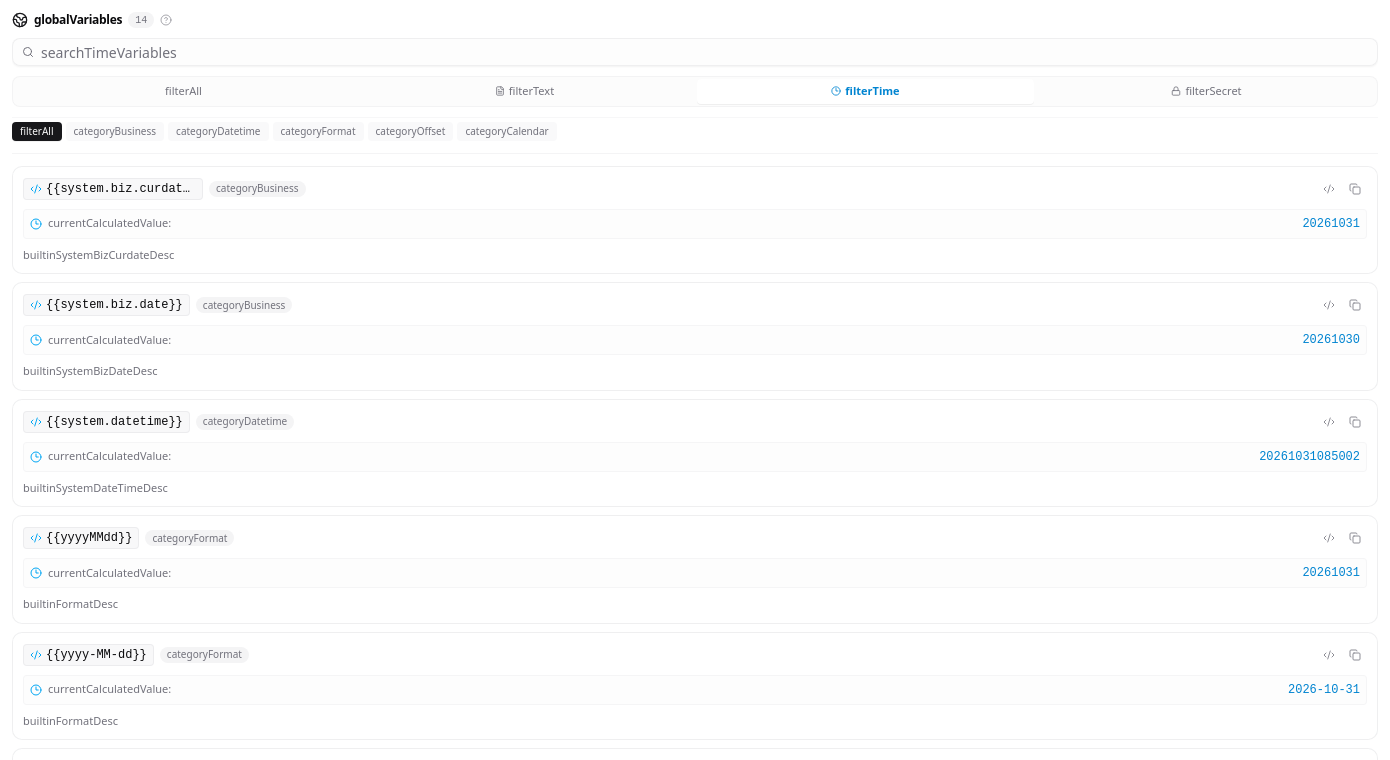
Test: GlobalVariablesSidebarPanel › filters built-in time variables by search query
Expected: the text "{{system.biz.curdate}}" is shown, [46,180,196,196]
In the field with placeholder "searchTimeVariables": (695,52) [12,38,1378,66], type "month_first_day"
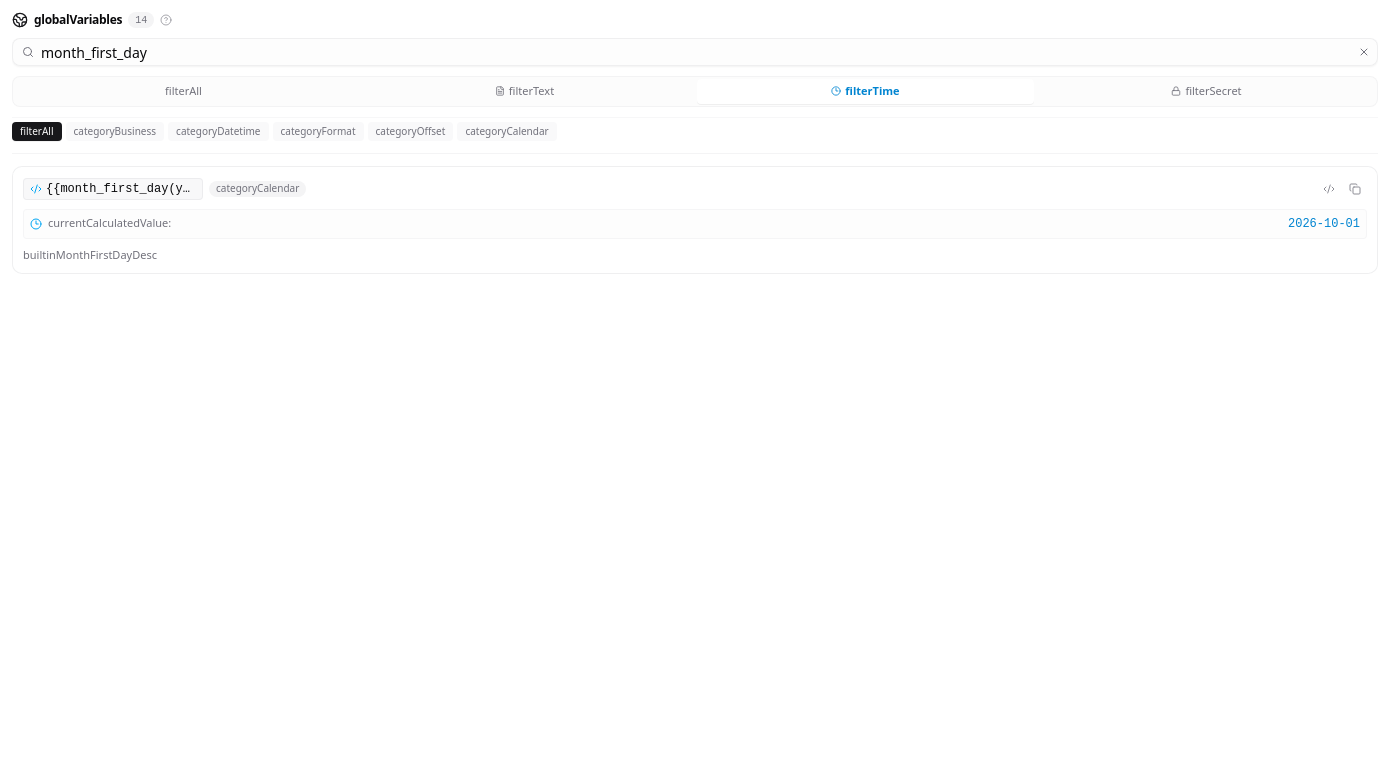
Expected: the text "{{month_first_day(yyyy-MM-dd,0)}}" is shown, [46,180,196,196]
Expected: the button "{{system.biz.curdate}}" is gone
